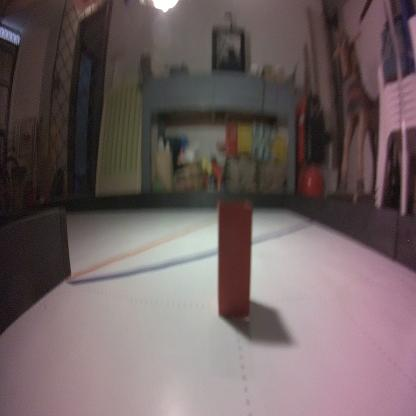red: (214, 195, 256, 317)
